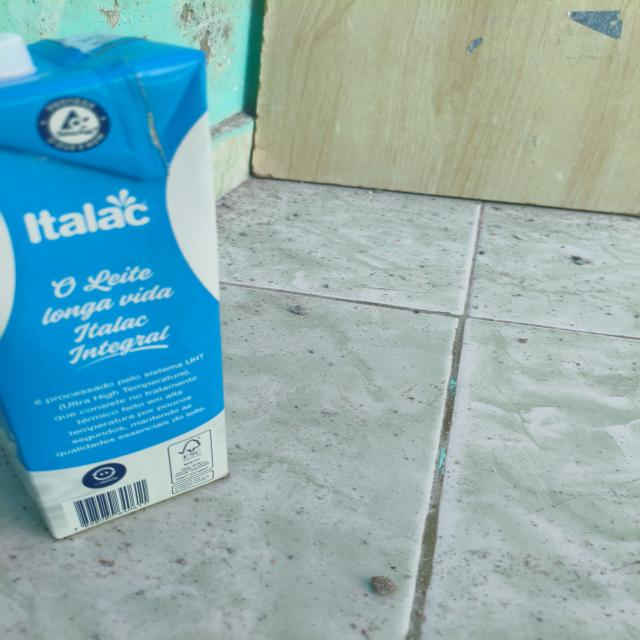Caixa de Leite: (0, 35, 229, 541)
